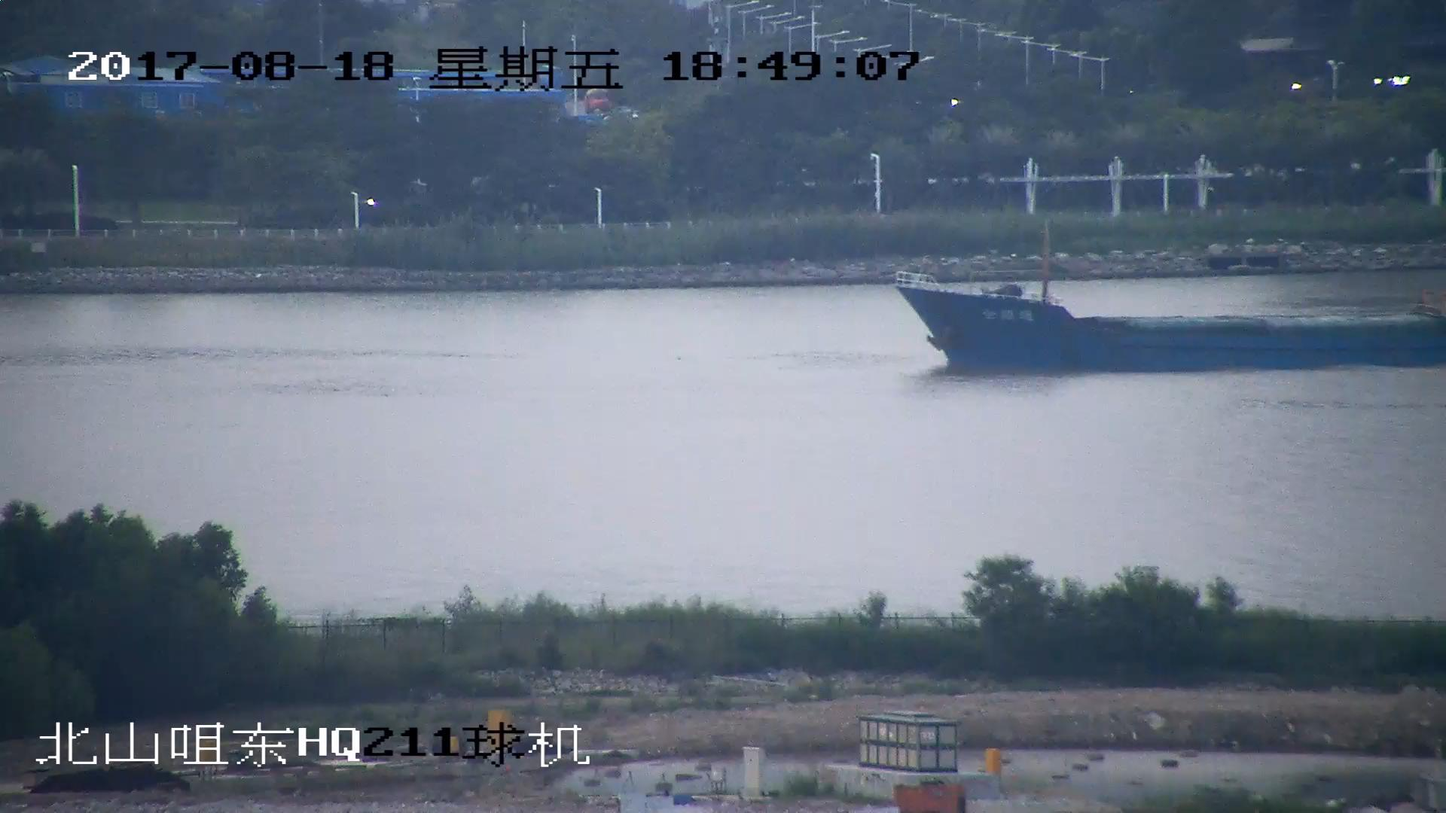general cargo ship: (894, 269, 1445, 368)
